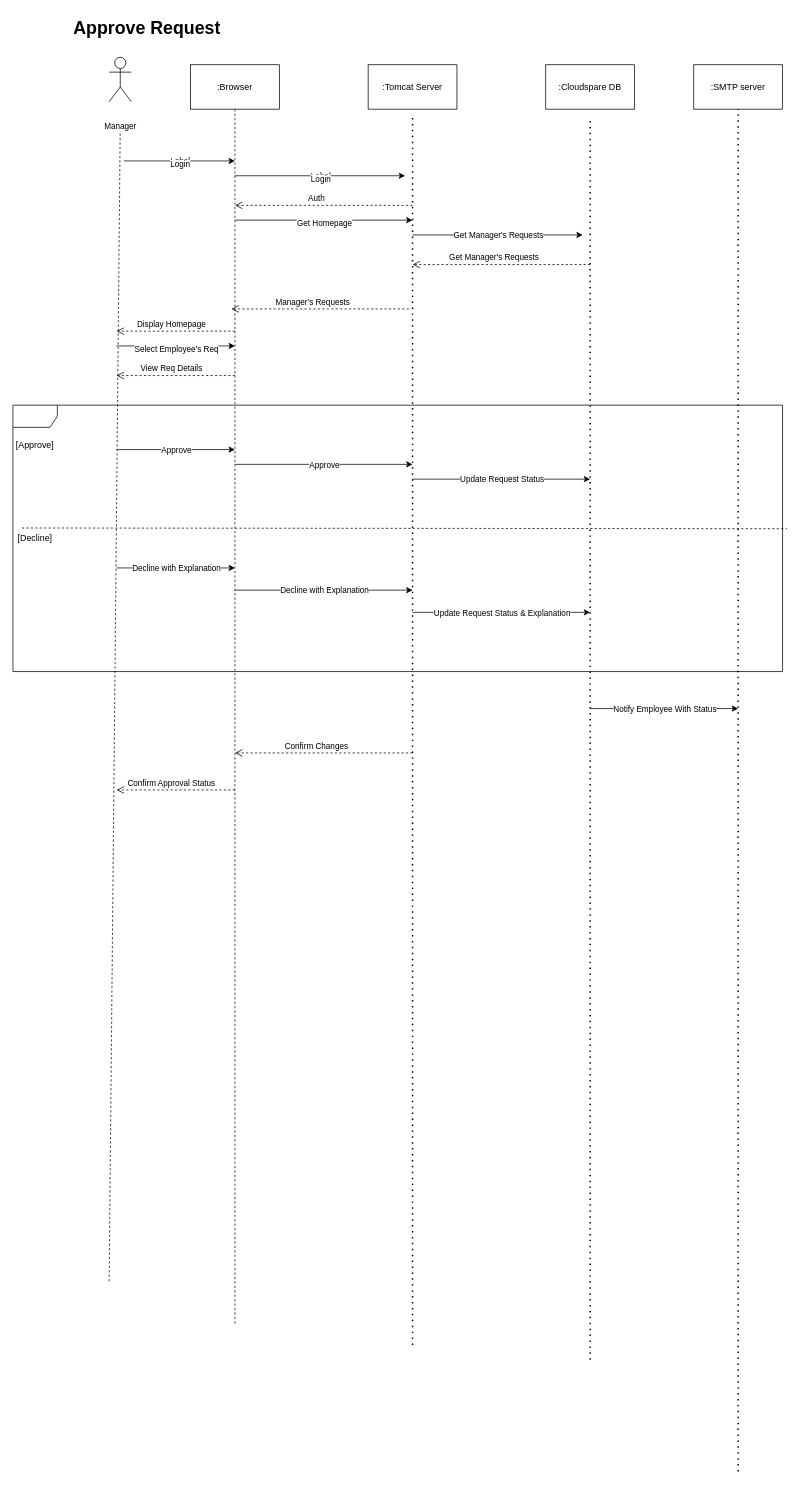
The diagram is 801 pixels wide and 1485 high, and some of its shapes have lost their labels. The shapes that lost their labels are listed below. From the top down, each one's box as (x1, y1, x2, y2) in pixels, then its label:
(108, 57, 131, 102): Actor
(12, 404, 783, 672): Alt
